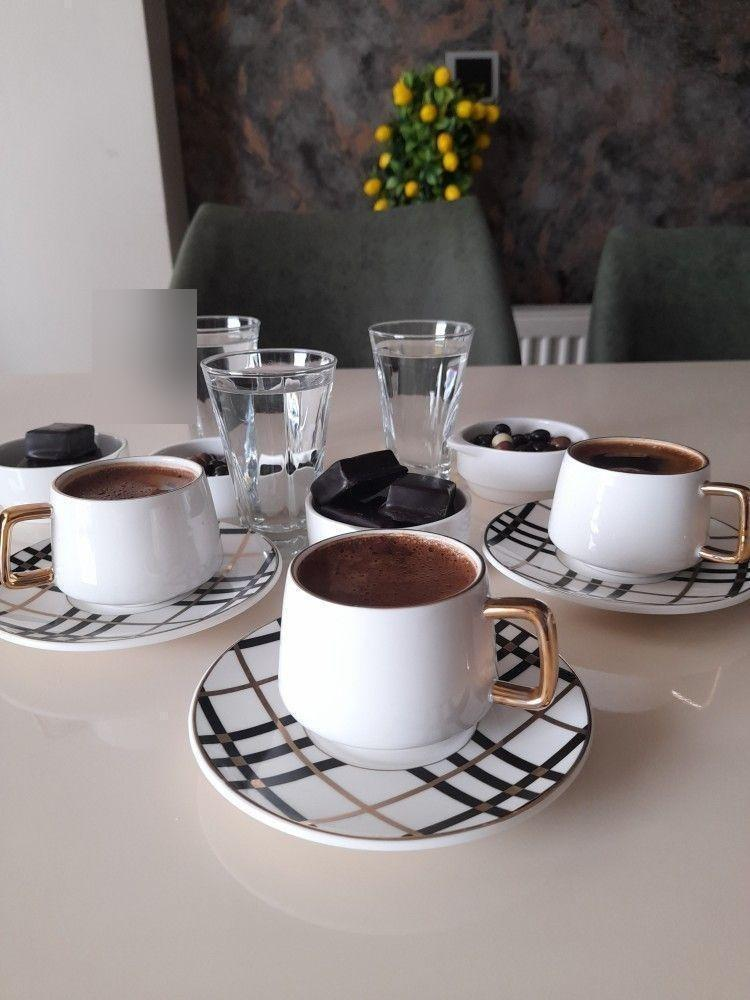cup-handle: (276, 527, 560, 772), (0, 455, 225, 616), (546, 436, 750, 587)
glass-normal: (199, 345, 339, 547), (367, 319, 475, 481)
